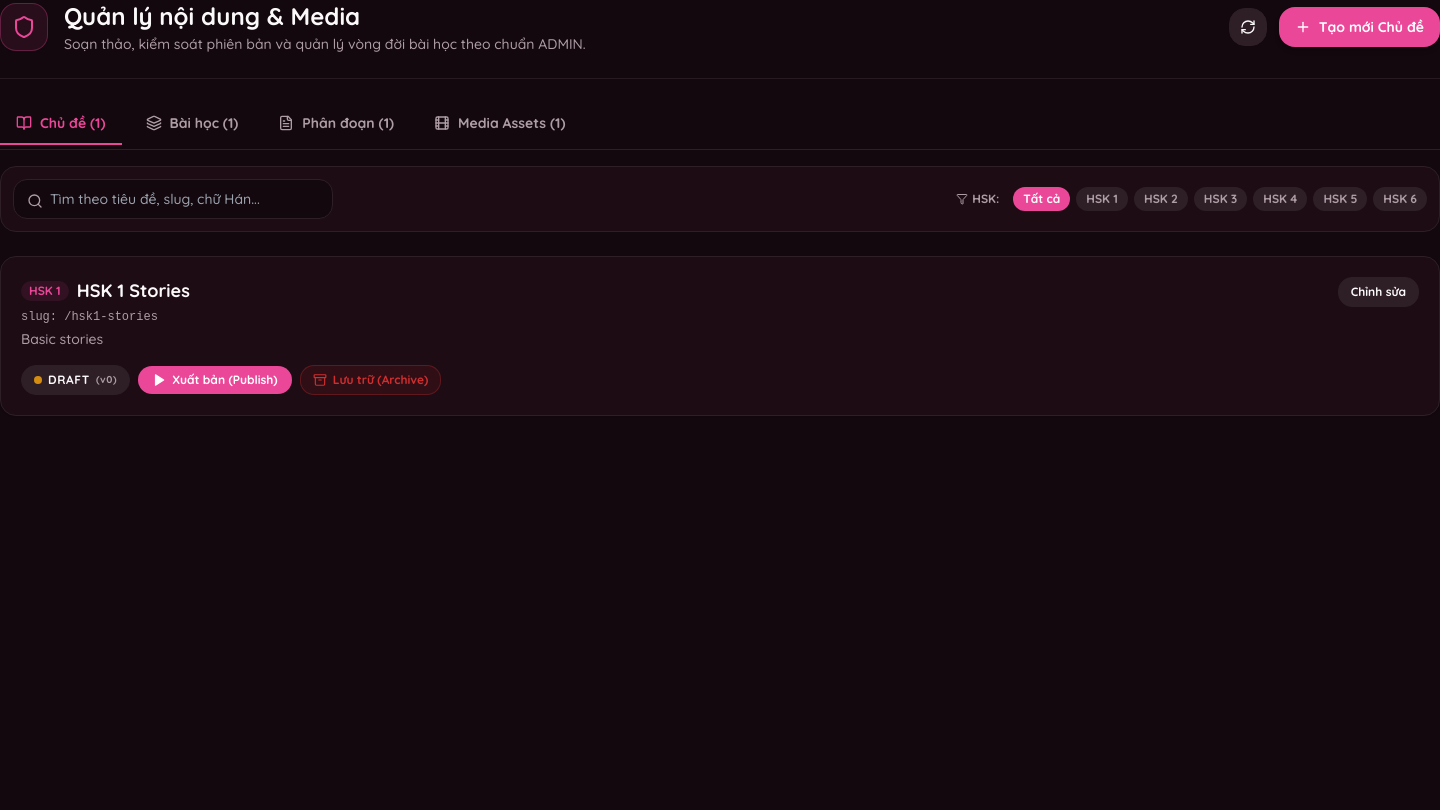
Test case: F04 Content & Media Administration UI tests › creates media from a YouTube URL or ID without offering a local file upload
The image size is (1440, 810).
Click the button with test id "subtab-media": (500, 124) [418,103,582,145]
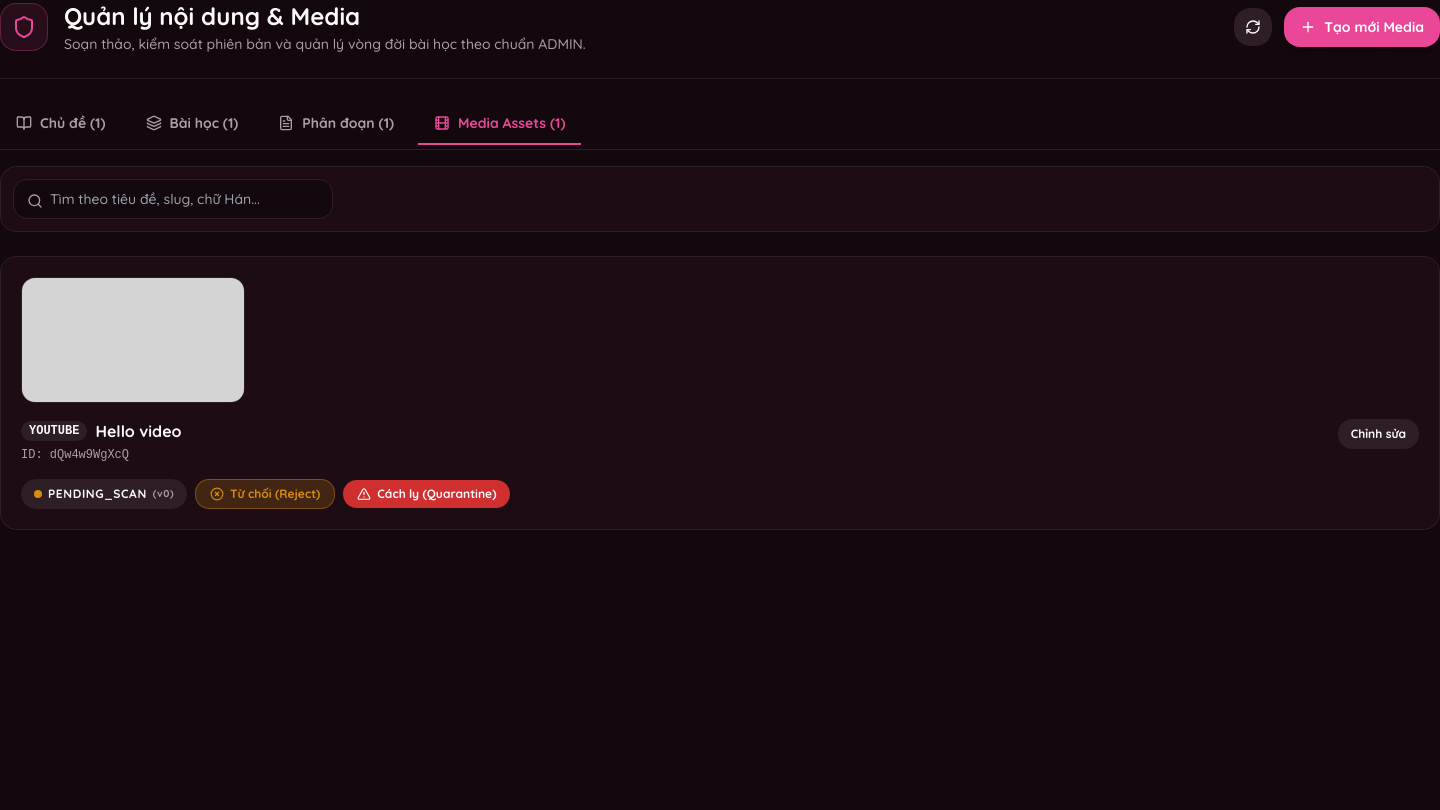
Click the button with test id "create-content-btn": (1362, 27) [1284,7,1439,47]
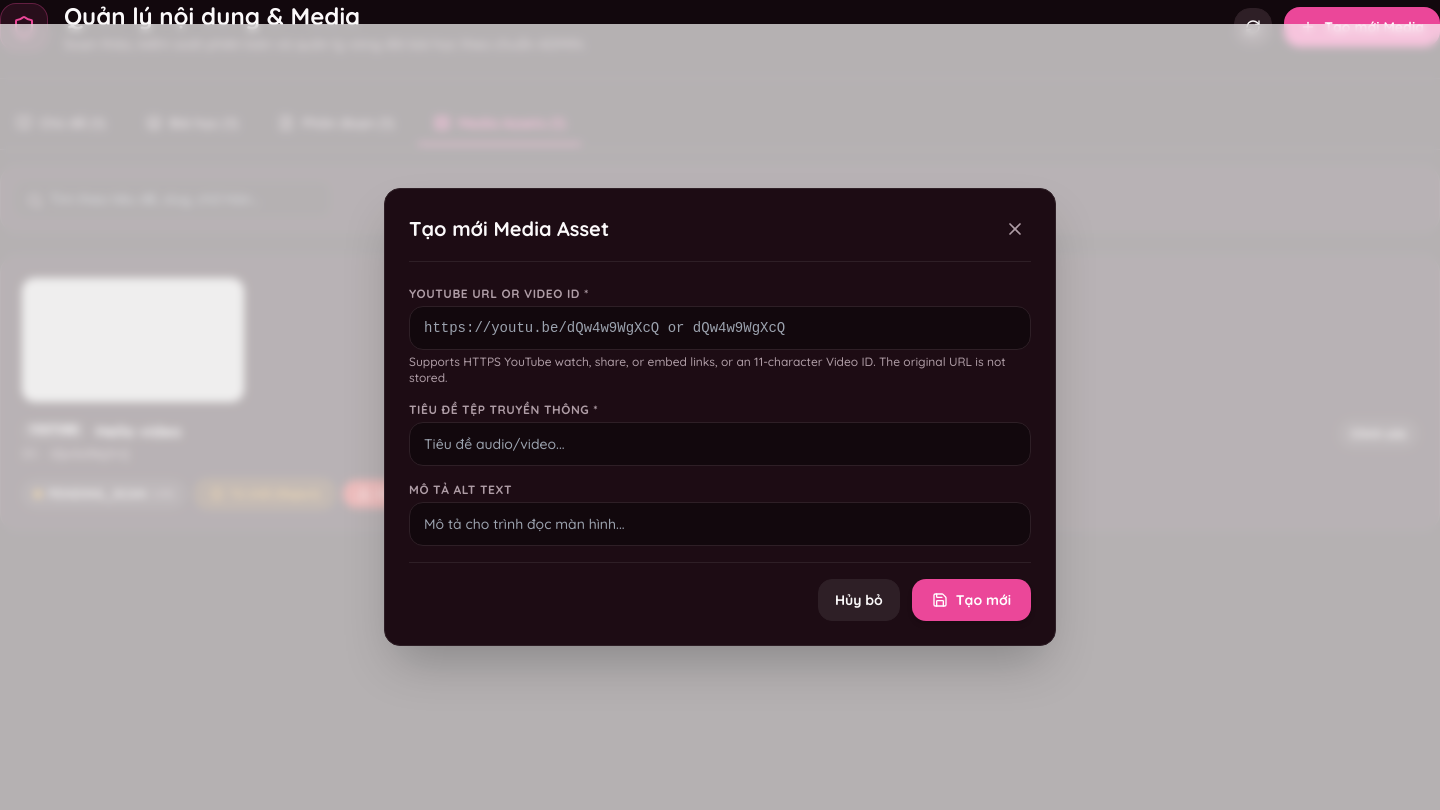
Check: the text "original URL is not stored" is shown, box [409,354,1006,385]
In the field with test id "media-youtube-reference-input": (720, 328) [409,306,1031,350], type "https://youtu.be/dQw4w9WgXcQ"
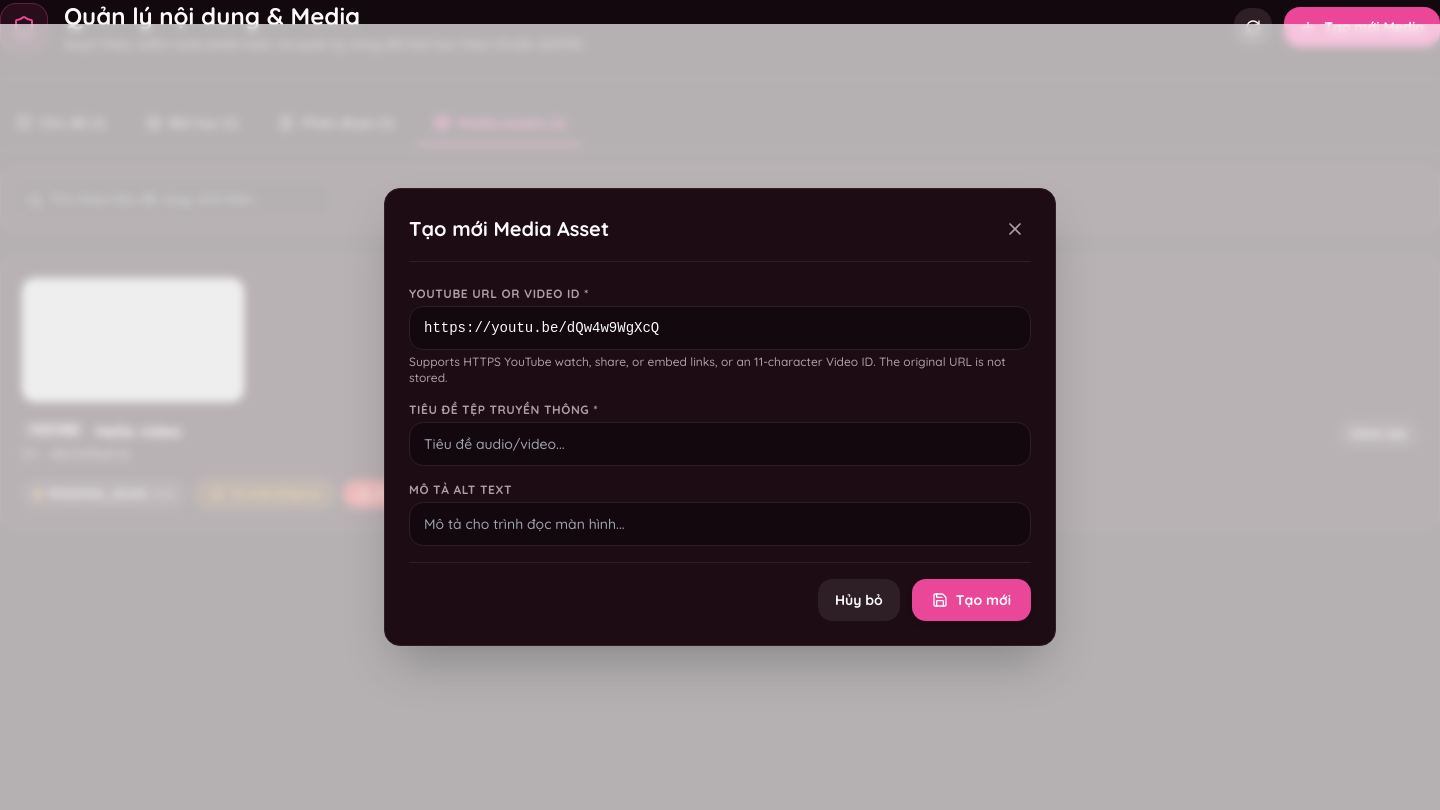
In the field with test id "media-title-input": (720, 444) [409,422,1031,466], type "Greeting video"
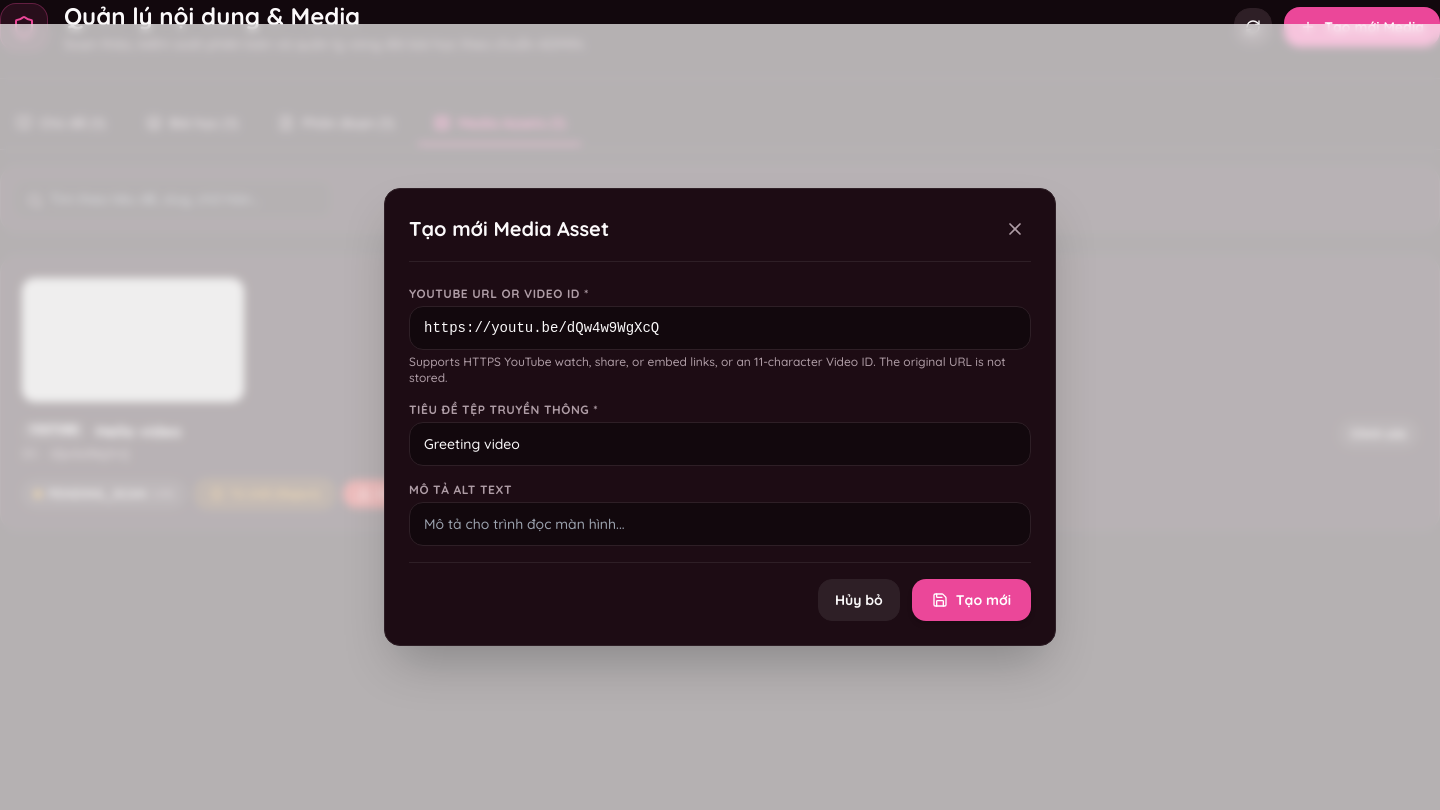
Submit the form with test id "content-editor-form", box [409,286,1031,621]
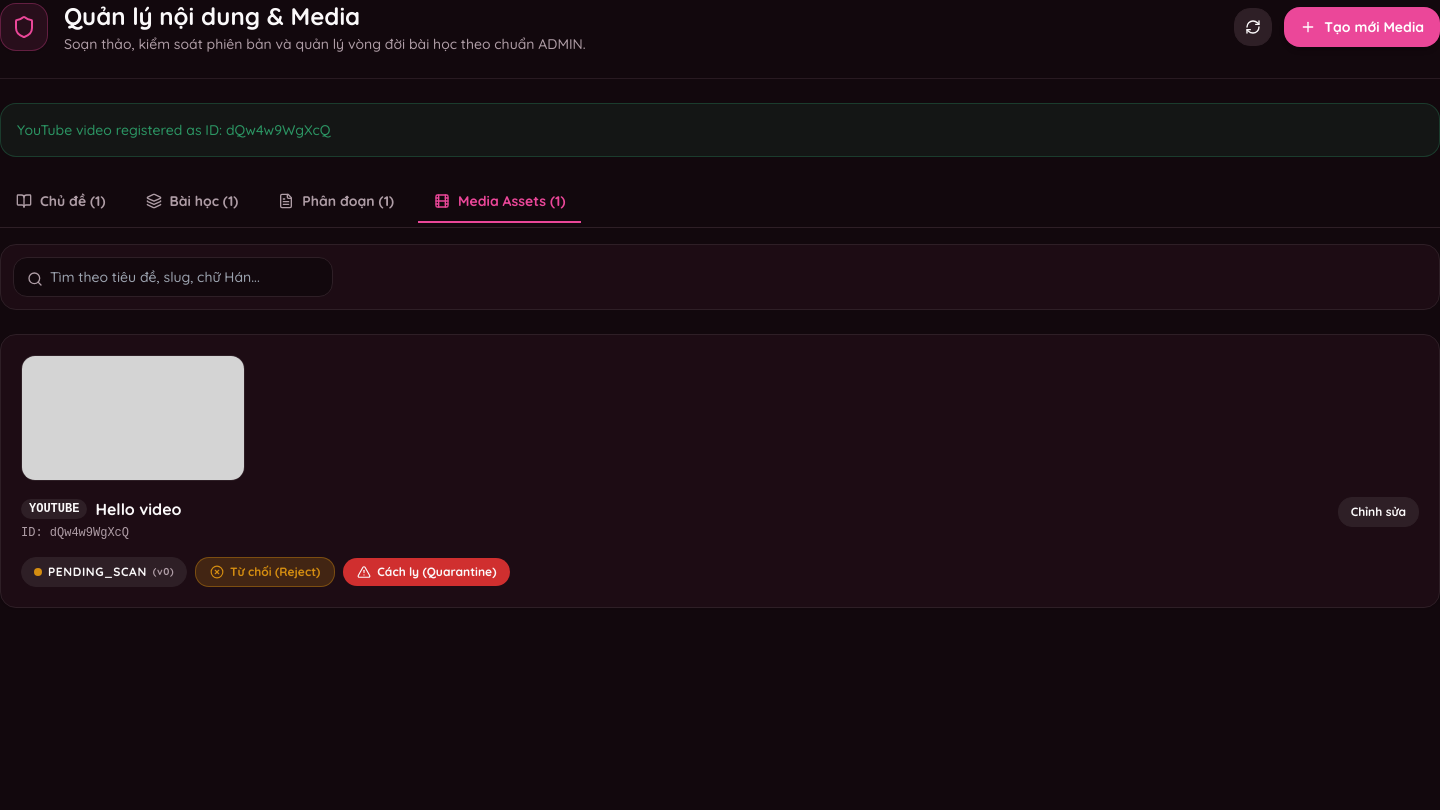
Check: the message reads "YouTube video registered as ID: dQw4w9WgXcQ", box [17,121,330,139]
